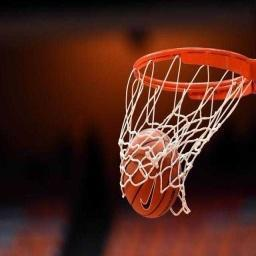ball: (120, 127, 182, 220)
rim: (116, 44, 254, 216)
